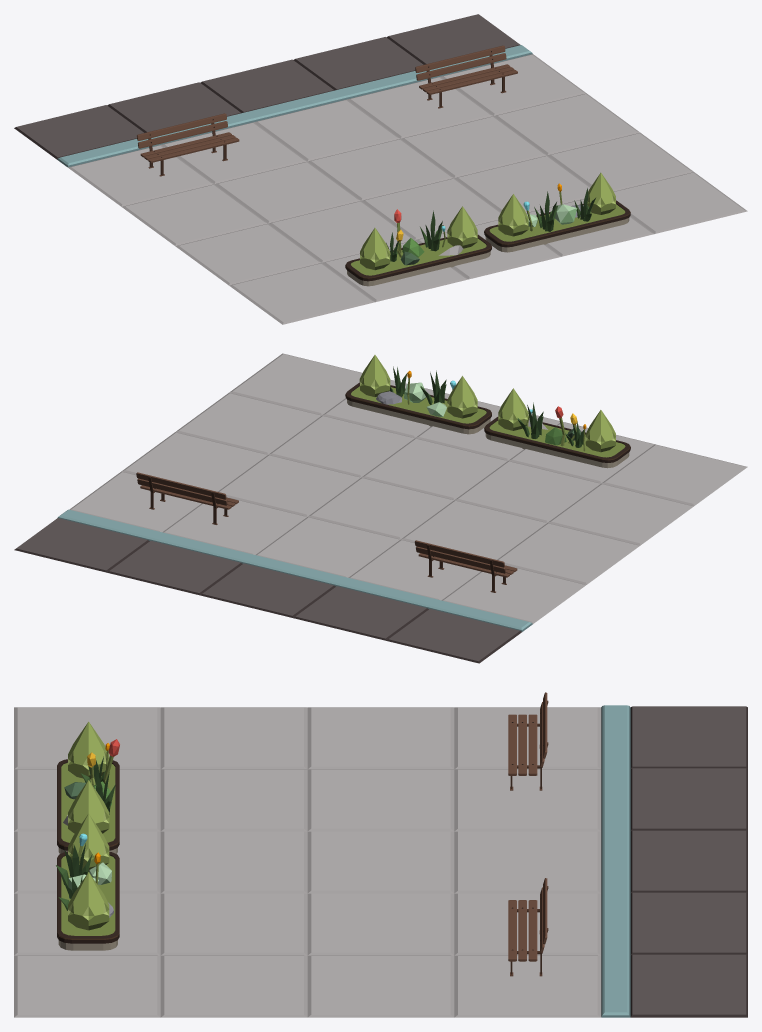
Rendered from OpenRoad_D.glb.
3 views of the same model, one above another, from view 1: azimuth 30°, elevation 25°; view 2: azimuth 150°, elevation 25°; view 3: azimuth 270°, elevation 25° (orthographic). The views are drawn at different scales.
Parts seen in each view (by area): view 1: OpenRoad_D, Cube.253, Bench_01.007, Bench_01.008, Cube.254, Cone.123, Cone.124, Cone.125, Cone.122; view 2: OpenRoad_D, Cube.253, Cube.254, Bench_01.008, Bench_01.007, Cone.123, Cone.124, Cone.122, Cone.125; view 3: OpenRoad_D, Cube.254, Bench_01.007, Bench_01.008, Cube.253, Cone.122, Cone.124, Cone.125, Cone.123, Grass_03.594.
Boxes of the visible parts, <box> form: OpenRoad_D: <box>14,14,747,324</box>; Cube.253: <box>345,234,491,286</box>; Bench_01.007: <box>137,113,239,176</box>; Bench_01.008: <box>415,45,517,108</box>; Cube.254: <box>484,200,630,252</box>; Cone.123: <box>498,194,528,236</box>; Cone.124: <box>360,228,390,270</box>; Cone.125: <box>447,206,477,248</box>; Cone.122: <box>587,172,615,214</box>; OpenRoad_D: <box>14,353,747,663</box>; Cube.253: <box>484,416,630,468</box>; Cube.254: <box>345,382,491,434</box>; Bench_01.008: <box>136,472,238,524</box>; Bench_01.007: <box>414,540,517,592</box>; Cone.123: <box>447,376,477,418</box>; Cone.124: <box>585,410,615,452</box>; Cone.122: <box>359,355,390,396</box>; Cone.125: <box>498,388,528,430</box>; OpenRoad_D: <box>14,705,747,1017</box>; Cube.254: <box>57,851,119,950</box>; Bench_01.007: <box>508,692,548,790</box>; Bench_01.008: <box>508,878,548,976</box>; Cube.253: <box>57,759,119,853</box>; Cone.122: <box>68,872,109,930</box>; Cone.124: <box>68,721,109,779</box>; Cone.125: <box>68,780,109,833</box>; Cone.123: <box>68,814,109,871</box>; Grass_03.594: <box>56,843,92,886</box>.
Size of what is drawn, in the model's own units: 16 by 1.69 by 16.
Materials: 2 (2 with a texture image).
